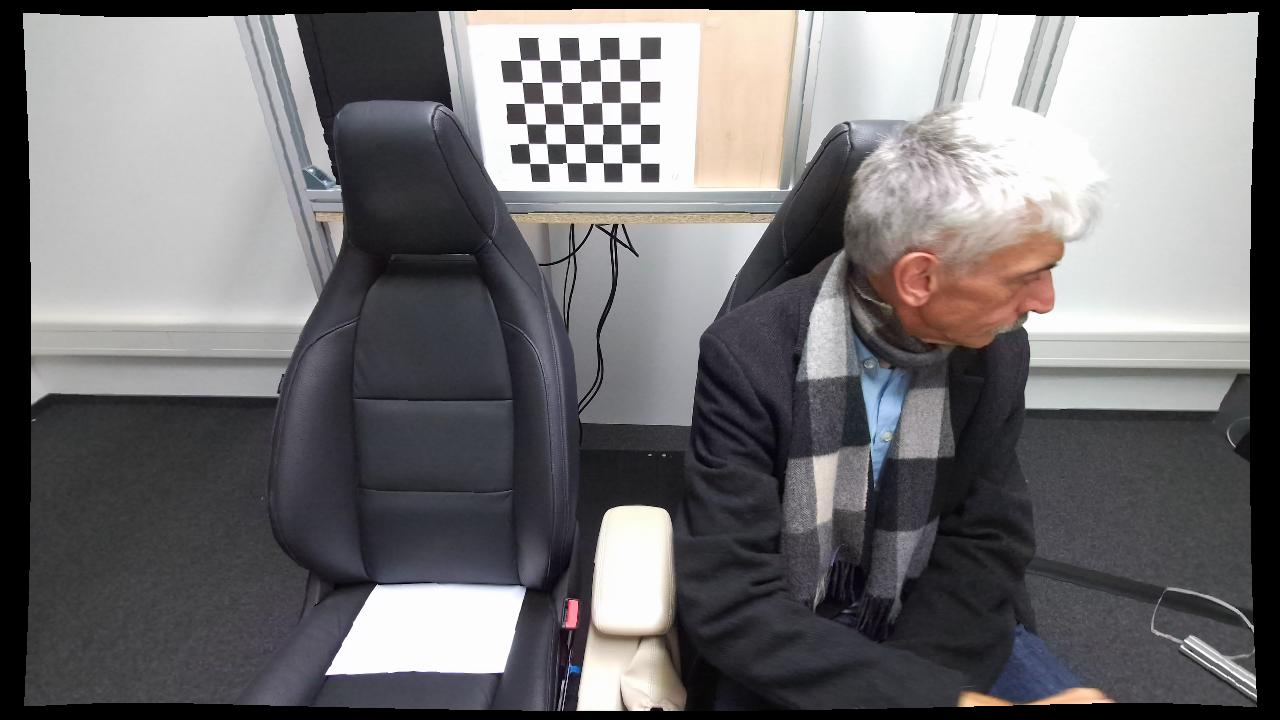Distracted: (674, 98, 1118, 713)
